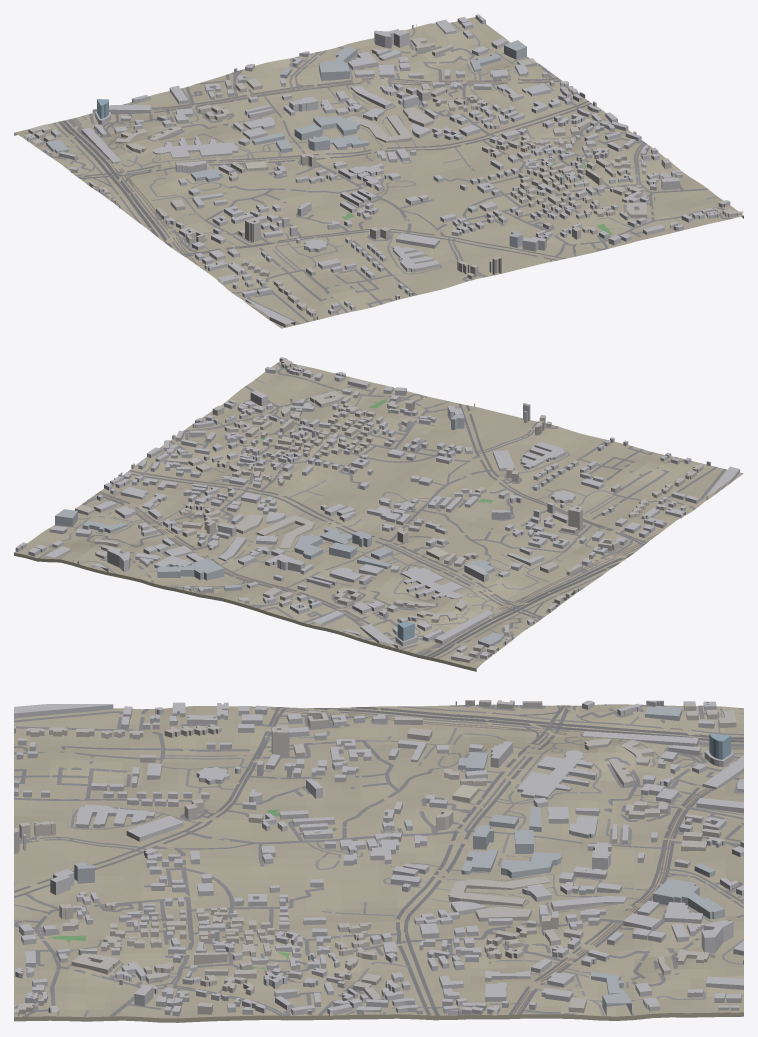
File: context.glb
The picture shows the model from 3 angles, top to bottom: view 1: azimuth 30°, elevation 25°; view 2: azimuth 150°, elevation 25°; view 3: azimuth 270°, elevation 25°; orthographic projection. The views are drawn at different scales.
Visible parts, largest first — view 1: Terrain, OSM_Buildings, OSM_Roads_Street, OSM_Roads_Primary, OSM_Roads_Service, OSM_Roads_Rail, OSM_Roads_Highway; view 2: Terrain, OSM_Buildings, OSM_Roads_Street, OSM_Roads_Service, OSM_Roads_Primary, OSM_Roads_Highway, OSM_Roads_Rail; view 3: Terrain, OSM_Buildings, OSM_Roads_Street, OSM_Roads_Service, OSM_Roads_Primary, OSM_Roads_Highway, OSM_Roads_Rail.
Boxes of the visible parts, bbox=[...] form: Terrain: bbox=[14, 17, 743, 328]; OSM_Buildings: bbox=[24, 14, 743, 327]; OSM_Roads_Street: bbox=[29, 40, 737, 327]; OSM_Roads_Primary: bbox=[78, 77, 591, 260]; OSM_Roads_Service: bbox=[14, 22, 717, 274]; OSM_Roads_Rail: bbox=[72, 78, 560, 326]; OSM_Roads_Highway: bbox=[58, 120, 172, 247]; Terrain: bbox=[14, 361, 743, 671]; OSM_Buildings: bbox=[15, 357, 739, 662]; OSM_Roads_Street: bbox=[82, 362, 732, 659]; OSM_Roads_Service: bbox=[38, 379, 630, 668]; OSM_Roads_Primary: bbox=[95, 403, 647, 648]; OSM_Roads_Highway: bbox=[426, 553, 633, 657]; OSM_Roads_Rail: bbox=[97, 481, 728, 654]; Terrain: bbox=[14, 704, 743, 1022]; OSM_Buildings: bbox=[14, 700, 743, 1016]; OSM_Roads_Street: bbox=[14, 704, 743, 1016]; OSM_Roads_Service: bbox=[14, 707, 743, 1017]; OSM_Roads_Primary: bbox=[14, 705, 743, 1015]; OSM_Roads_Highway: bbox=[314, 707, 743, 742]; OSM_Roads_Rail: bbox=[249, 706, 741, 1014].
Bounding box in the file's own units: 1200 × 57.61 × 1200.
